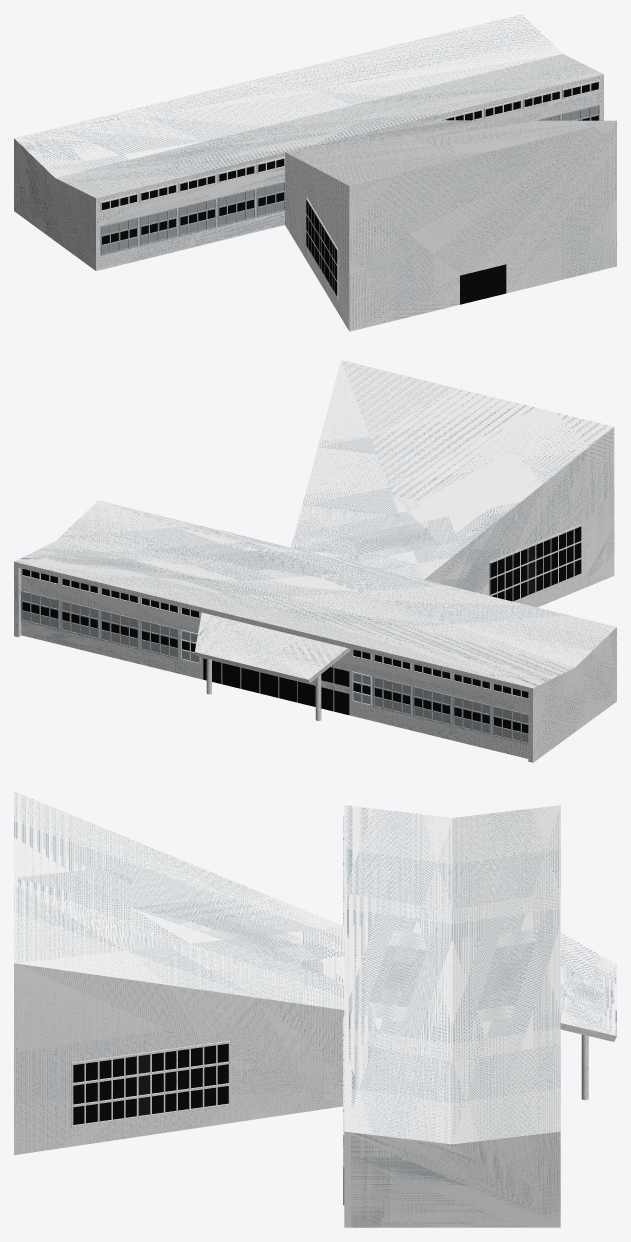
Rendered from anexo araucaria.fbx.
3 renders of one model, top to bottom at view 1: azimuth 30°, elevation 25°; view 2: azimuth 150°, elevation 25°; view 3: azimuth 270°, elevation 25°, orthographic. The views are drawn at different scales.
Visible parts, largest first — view 1: Group1, Group51, Group43, Group40, Group41, Group42, Group44, Group48, Group50, Group49, Group25; view 2: Group1, Group51, Group23, Group48, Group49, Group50, Group2, Group3, Group7, Group4, Group5, Group6 (+4 smaller); view 3: Group1, Group51, Group23, Group45, Group47, Group46.
Boxes of the visible parts, x1=… form: Group1: x1=14, y1=14, x2=603, y2=270; Group51: x1=285, y1=120, x2=616, y2=331; Group43: x1=100, y1=217, x2=138, y2=255; Group40: x1=178, y1=198, x2=216, y2=236; Group41: x1=217, y1=188, x2=255, y2=227; Group42: x1=139, y1=207, x2=177, y2=246; Group44: x1=256, y1=181, x2=285, y2=217; Group48: x1=327, y1=232, x2=338, y2=298; Group50: x1=306, y1=197, x2=317, y2=263; Group49: x1=316, y1=215, x2=327, y2=280; Group25: x1=562, y1=104, x2=599, y2=120; Group1: x1=14, y1=500, x2=616, y2=762; Group51: x1=291, y1=360, x2=614, y2=607; Group23: x1=194, y1=612, x2=349, y2=683; Group48: x1=550, y1=524, x2=581, y2=587; Group49: x1=520, y1=536, x2=551, y2=599; Group50: x1=489, y1=549, x2=520, y2=601; Group2: x1=60, y1=600, x2=99, y2=639; Group3: x1=100, y1=610, x2=139, y2=649; Group7: x1=452, y1=696, x2=491, y2=735; Group4: x1=140, y1=620, x2=178, y2=659; Group5: x1=373, y1=676, x2=411, y2=715; Group6: x1=413, y1=686, x2=451, y2=725; Group1: x1=344, y1=805, x2=560, y2=1227; Group51: x1=14, y1=791, x2=344, y2=1155; Group23: x1=560, y1=932, x2=616, y2=1041; Group45: x1=71, y1=1055, x2=125, y2=1127; Group47: x1=176, y1=1040, x2=230, y2=1113; Group46: x1=124, y1=1048, x2=177, y2=1120.
Size of what is drawn, in the model's own units: 54.7 by 15 by 42.69.
